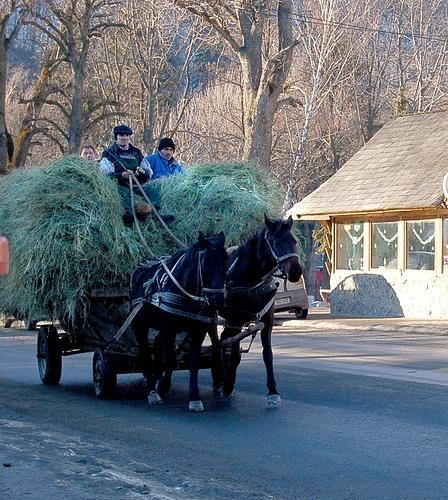car: (274, 271, 308, 320)
